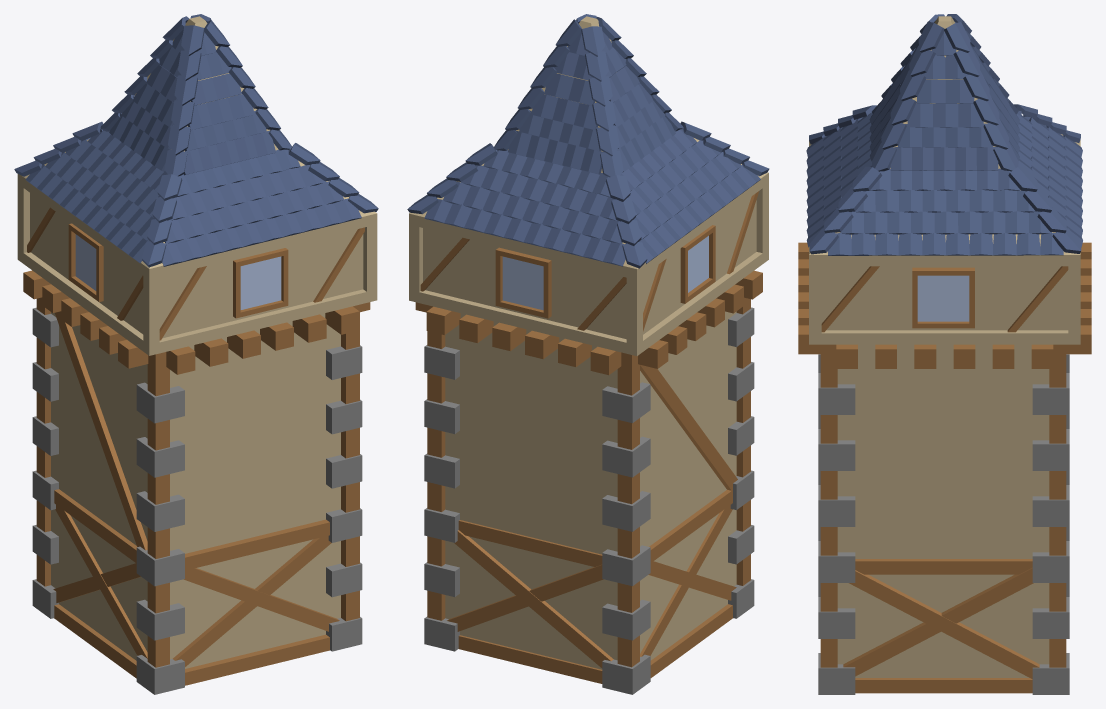
Rendered from PFE-Props-Tour.fbx.
The picture shows the model from 3 angles, left to right: view 1: azimuth 30°, elevation 25°; view 2: azimuth 150°, elevation 25°; view 3: azimuth 270°, elevation 25°; orthographic projection. The views are drawn at different scales.
Parts seen in each view (by area): view 1: Cube.039; view 2: Cube.039; view 3: Cube.039.
Part boxes in pixels (<box>): Cube.039: <box>14,14,378,694</box>; Cube.039: <box>407,14,769,694</box>; Cube.039: <box>798,14,1091,694</box>.
Bounding box in the file's own units: 524 × 1253 × 534.
